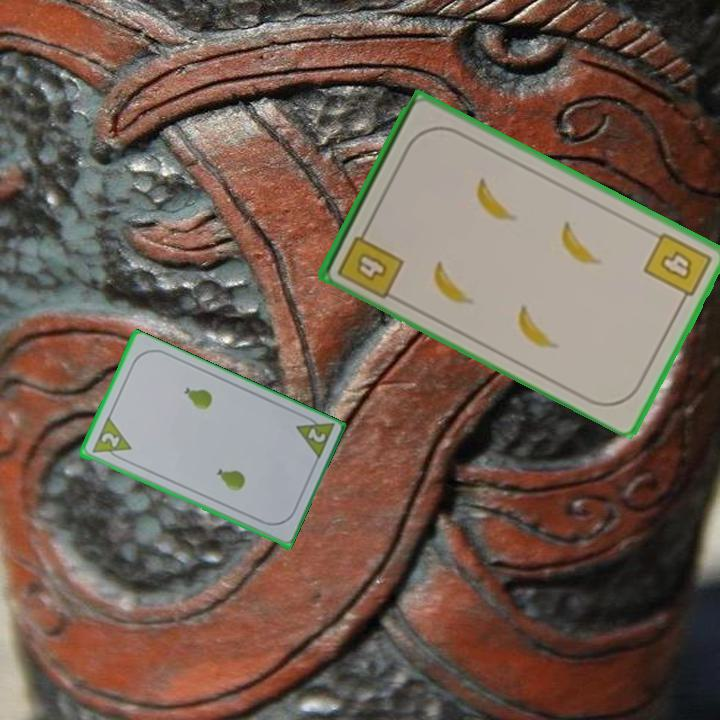2p: (291, 410, 337, 464), (97, 429, 122, 451)
4b: (640, 228, 715, 308), (334, 221, 407, 302)
